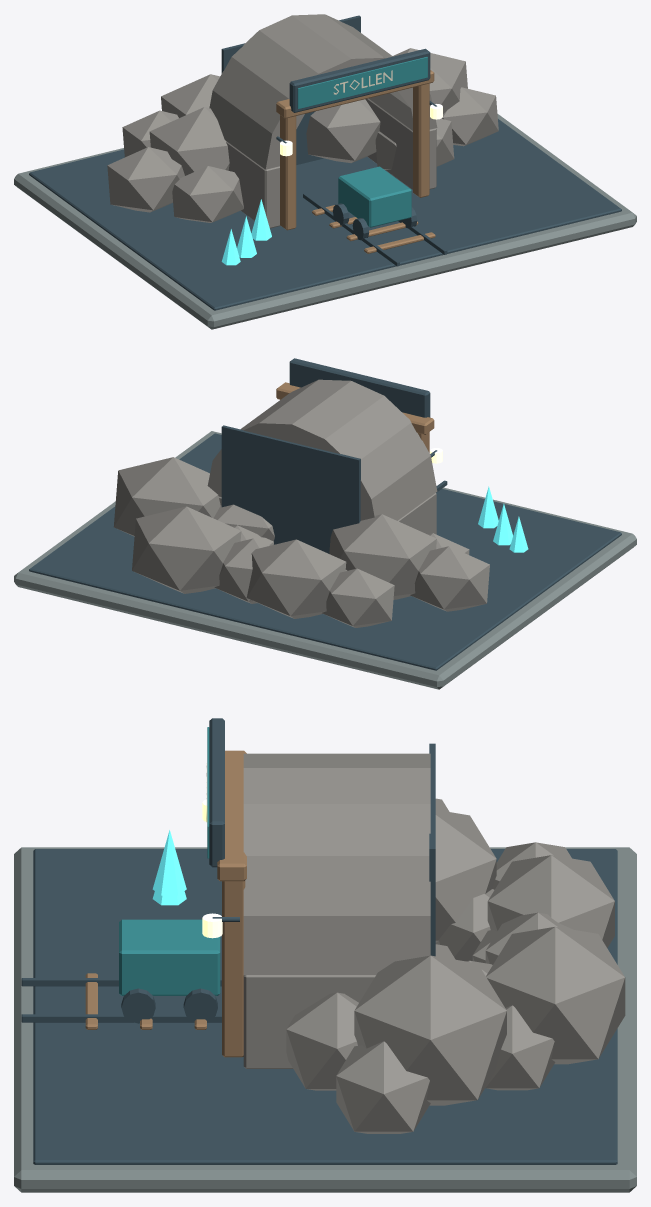
Rendered from stollen.glb.
3 renders of one model, top to bottom at view 1: azimuth 30°, elevation 25°; view 2: azimuth 150°, elevation 25°; view 3: azimuth 270°, elevation 25°, orthographic. The views are drawn at different scales.
Visible parts, largest first — view 1: stollen; view 2: stollen; view 3: stollen.
Boxes of the visible parts, left/top/right/bottom form: stollen: left=14, top=14, right=636, bottom=329; stollen: left=14, top=358, right=636, bottom=689; stollen: left=14, top=718, right=636, bottom=1192.
Size of the model in its own units: 10 by 3.73 by 8.
